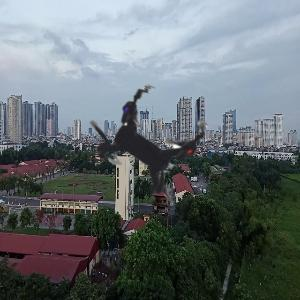drone: (39, 41, 247, 249)
